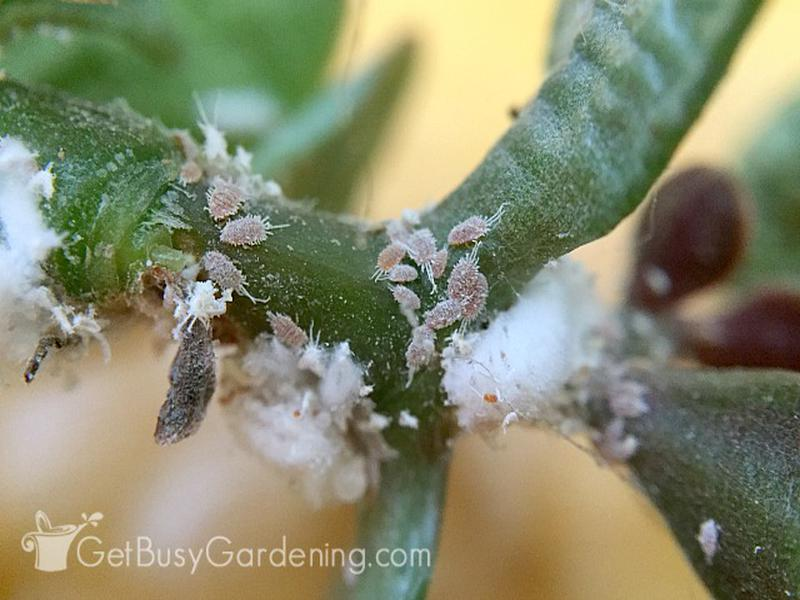Mealy_bug: (356, 196, 505, 382), (154, 144, 276, 344)
